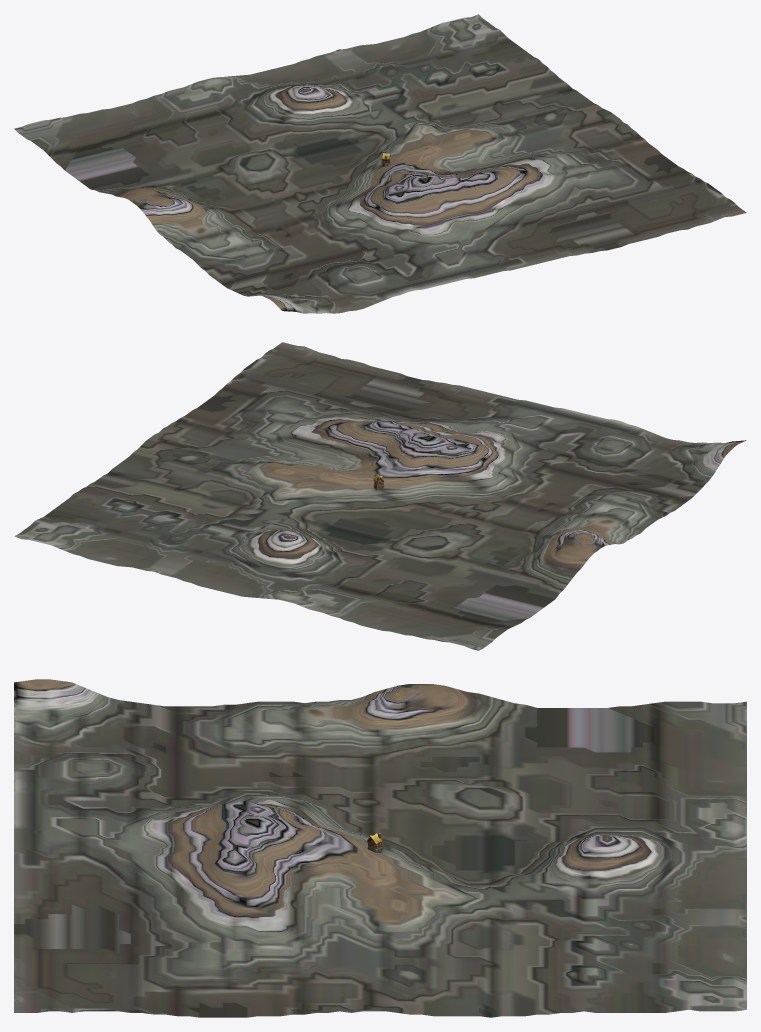
File: suelo.obj
The picture shows the model from 3 angles, top to bottom: view 1: azimuth 30°, elevation 25°; view 2: azimuth 150°, elevation 25°; view 3: azimuth 270°, elevation 25°; orthographic projection. The views are drawn at different scales.
Parts seen in each view (by area): view 1: terrain; view 2: terrain; view 3: terrain.
Part boxes in pixels (x1,y1,x2,y2): terrain: (14, 14, 746, 313); terrain: (14, 342, 746, 650); terrain: (14, 679, 746, 1017).
Bounding box in the file's own units: 6985 × 421 × 6985.
